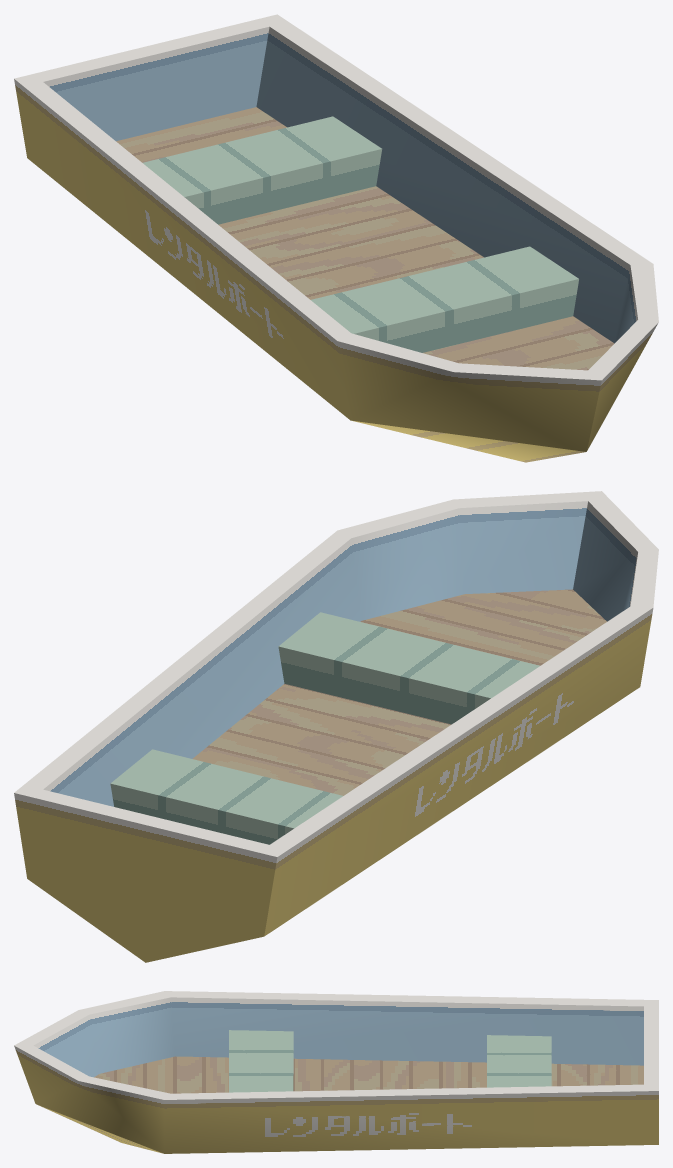
File: 00aa_Boat.glb
The picture shows the model from 3 angles, top to bottom: view 1: azimuth 30°, elevation 25°; view 2: azimuth 150°, elevation 25°; view 3: azimuth 270°, elevation 25°; orthographic projection. The views are drawn at different scales.
Visible parts, largest first — view 1: part_0; view 2: part_0; view 3: part_0.
Part boxes in pixels (x1,y1,x2,y2): part_0: (14,14,658,462); part_0: (14,491,658,962); part_0: (14,991,658,1153).
Size of the model in its own units: 1.2 by 0.5 by 3.
Materials: 1 (1 with a texture image).
